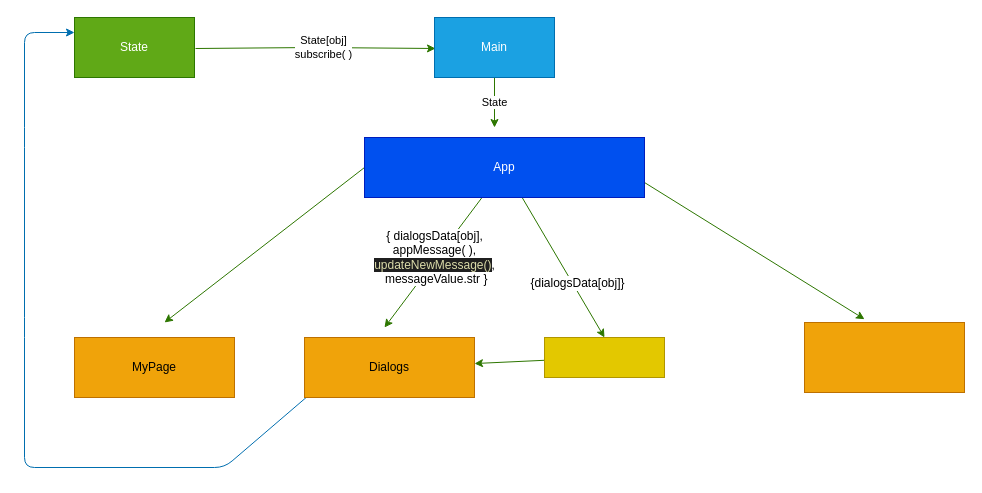
The diagram is 982 pixels wide and 493 high, and some of its shapes have lost their labels. The box of each missing label's shape, as (x1, y1, x2, y2) in pixels:
MyComponents: (804, 322, 964, 392)
RenederMessages: (544, 336, 664, 378)
